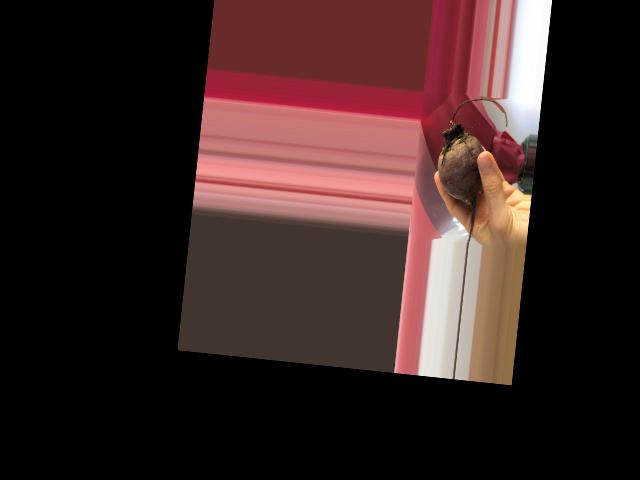beet: (430, 93, 510, 246)
